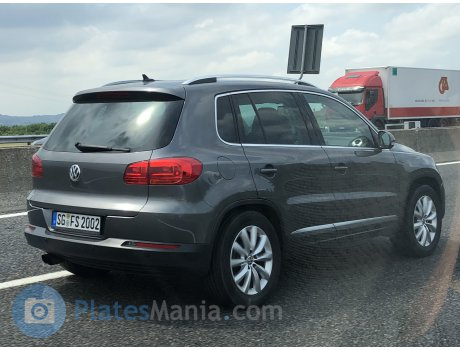License Plates: (52, 211, 104, 229)
